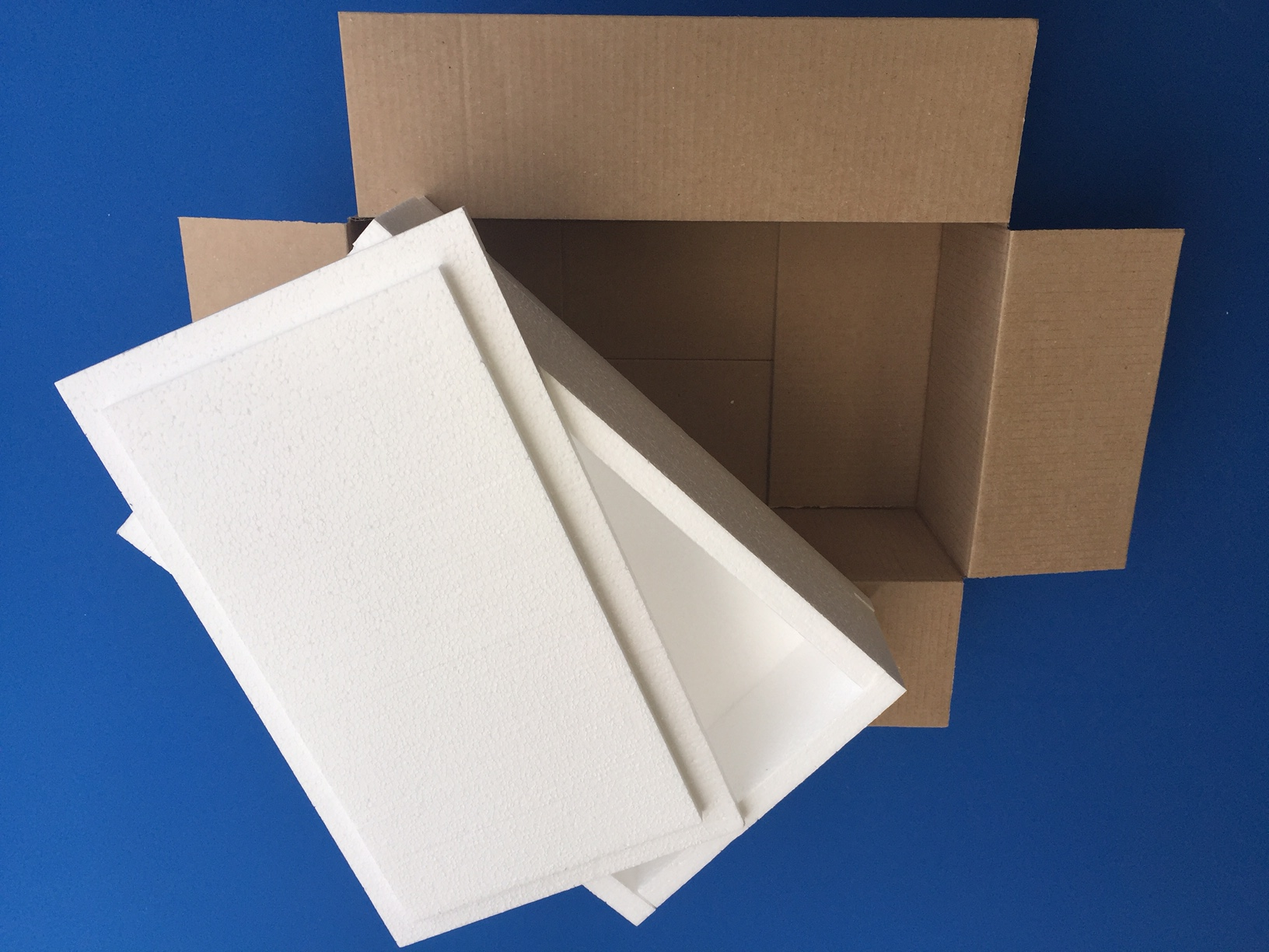泡沫箱: (58, 202, 902, 943)
